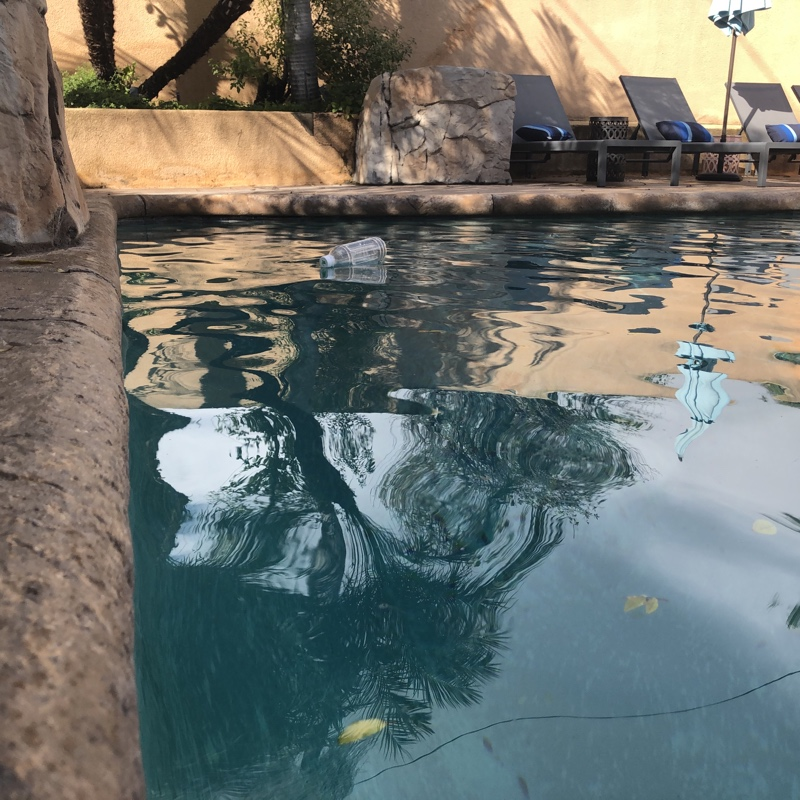Plastic Bottle: (314, 236, 389, 271)
